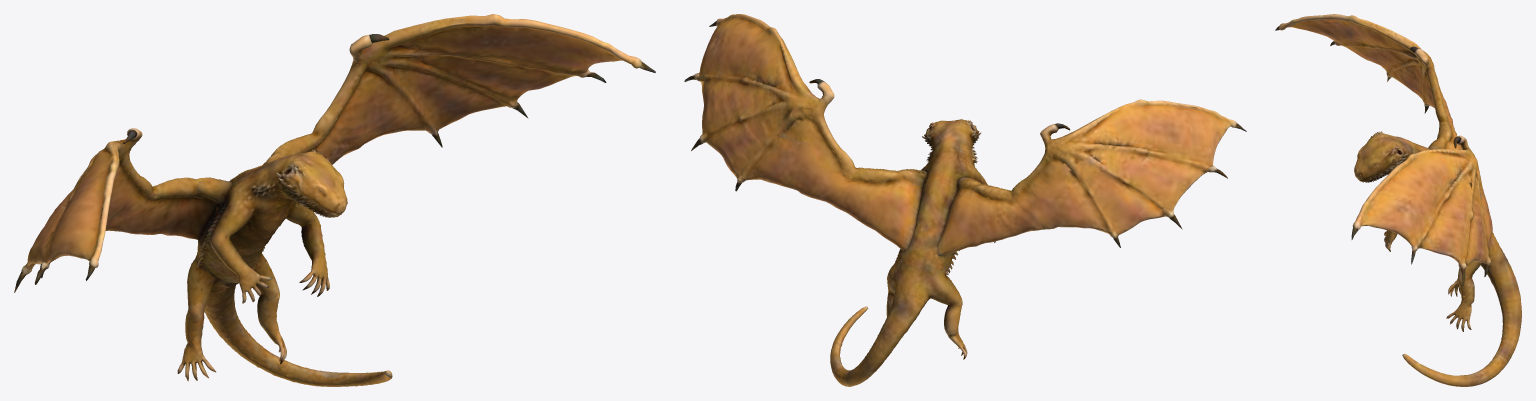
Rendered from MZ4250 - Bearded Dragon Dragon.glb.
The picture shows the model from 3 angles, left to right: view 1: azimuth 30°, elevation 25°; view 2: azimuth 150°, elevation 25°; view 3: azimuth 270°, elevation 25°; orthographic projection. The views are drawn at different scales.
Parts seen in each view (by area): view 1: Bearded Lizard Dragon.001; view 2: Bearded Lizard Dragon.001; view 3: Bearded Lizard Dragon.001.
Part boxes in pixels (x1,y1,x2,y2): Bearded Lizard Dragon.001: [14, 14, 655, 386]; Bearded Lizard Dragon.001: [684, 14, 1246, 386]; Bearded Lizard Dragon.001: [1275, 14, 1521, 386].
Bounding box in the file's own units: 259 × 146 × 118.
1 material, 1 textured.
